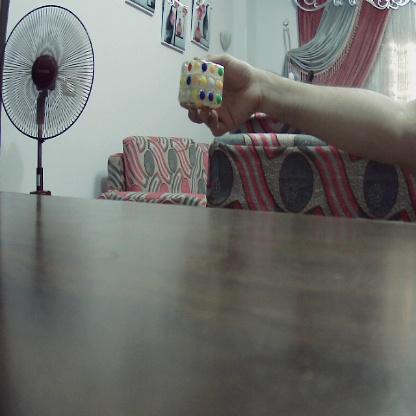Rubix Cube: (179, 60, 226, 108)
